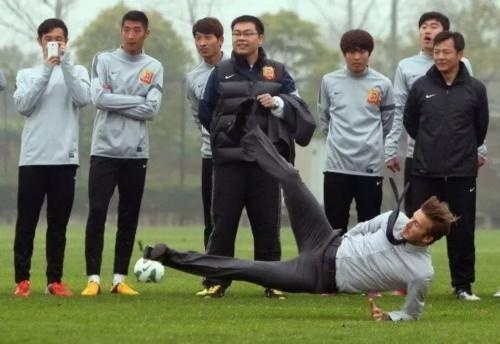falling: (138, 108, 470, 311)
